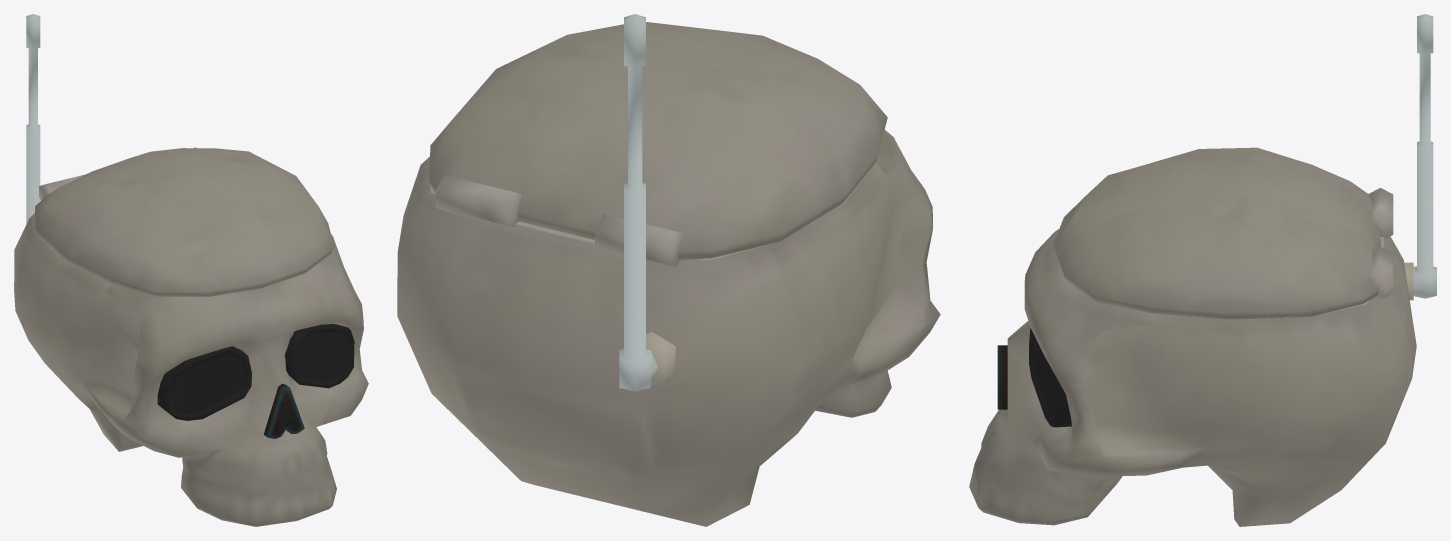
The picture shows the model from 3 angles, left to right: view 1: azimuth 30°, elevation 25°; view 2: azimuth 150°, elevation 25°; view 3: azimuth 270°, elevation 25°; orthographic projection. The views are drawn at different scales.
Bounding box in the file's own units: 6.05 × 8.21 × 7.92.
Materials: 1 (1 with a texture image).
